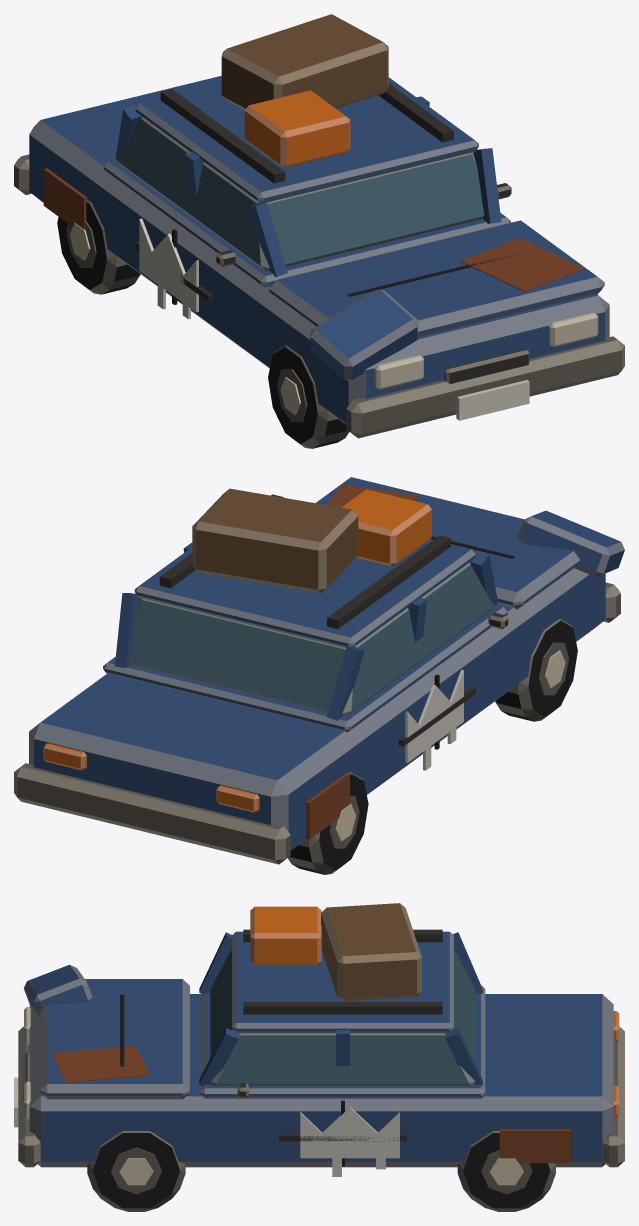
Rendered from c_car_sedan.glb.
The picture shows the model from 3 angles, top to bottom: view 1: azimuth 30°, elevation 25°; view 2: azimuth 150°, elevation 25°; view 3: azimuth 270°, elevation 25°; orthographic projection. The views are drawn at different scales.
Parts seen in each view (by area): view 1: c_car_sedan; view 2: c_car_sedan; view 3: c_car_sedan.
Boxes of the visible parts, x1,y1,x2,y2 form: c_car_sedan: (14, 14, 624, 448); c_car_sedan: (14, 477, 624, 874); c_car_sedan: (14, 903, 624, 1211).
Size of the model in its own units: 2.12 by 1.82 by 4.29.
